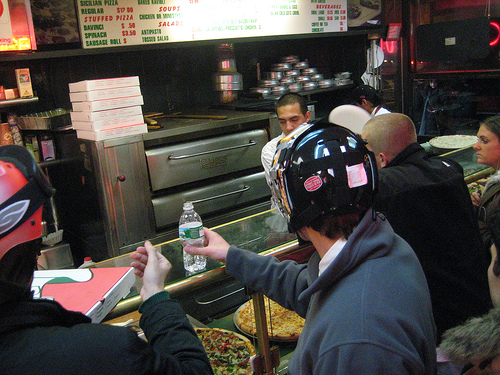helmet: (274, 121, 380, 217)
